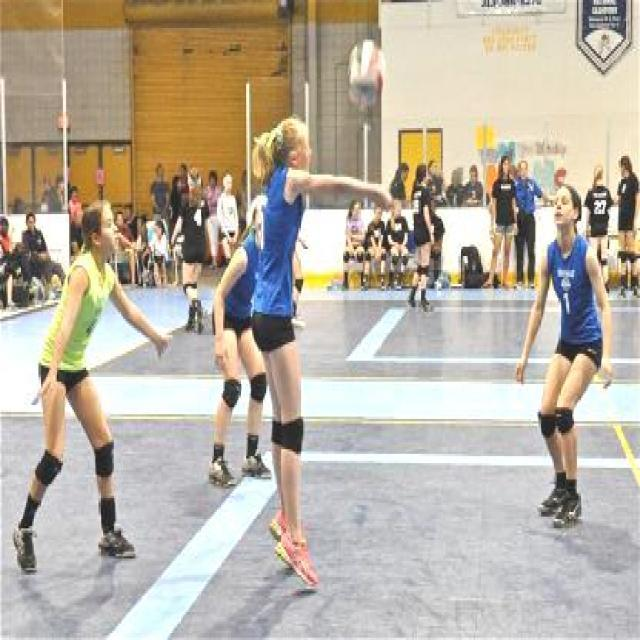volleyball: (350, 41, 390, 109)
